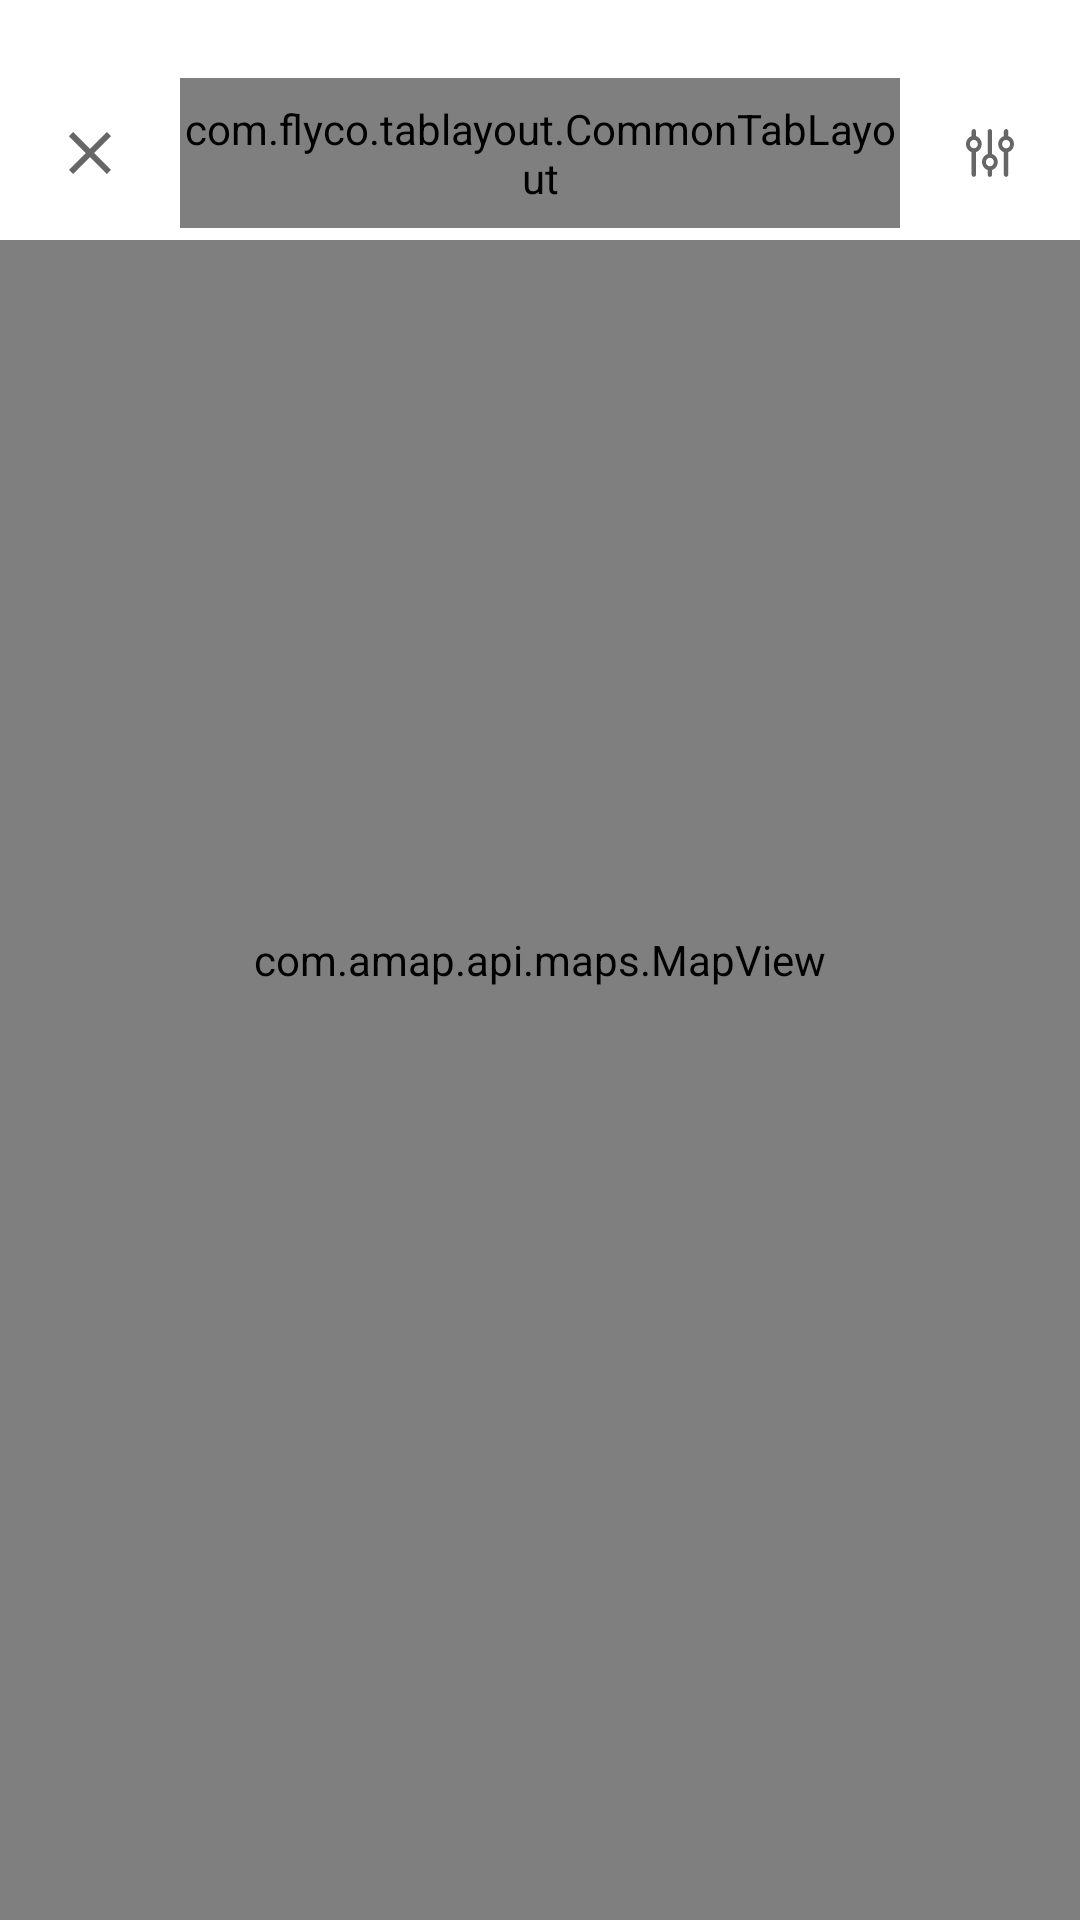

Locate icon controls on the screen. Image size 1080px×1920px, boxes as region(x1, y1, x2, y2).
close: region(69, 132, 111, 174)
map menu: region(966, 129, 1014, 177)
